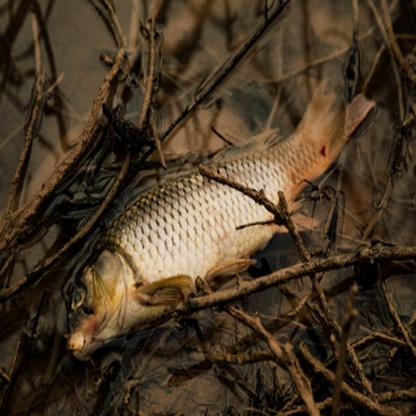deceased fish: (67, 78, 378, 356)
